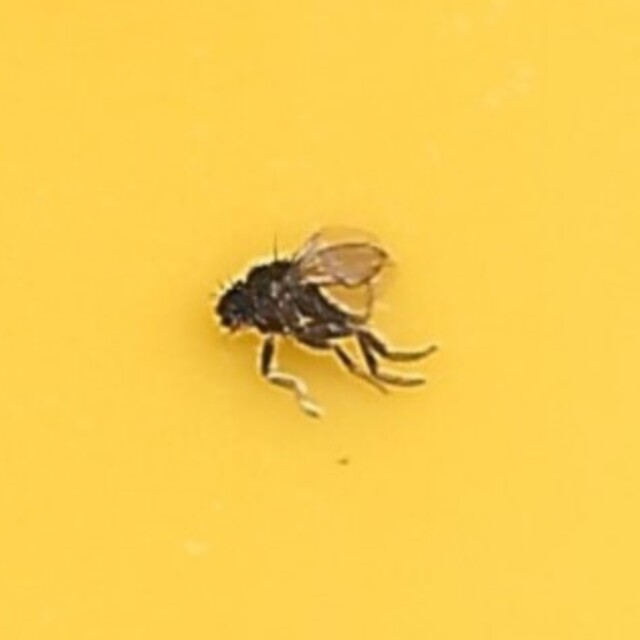Brachycera: (202, 226, 438, 414)
